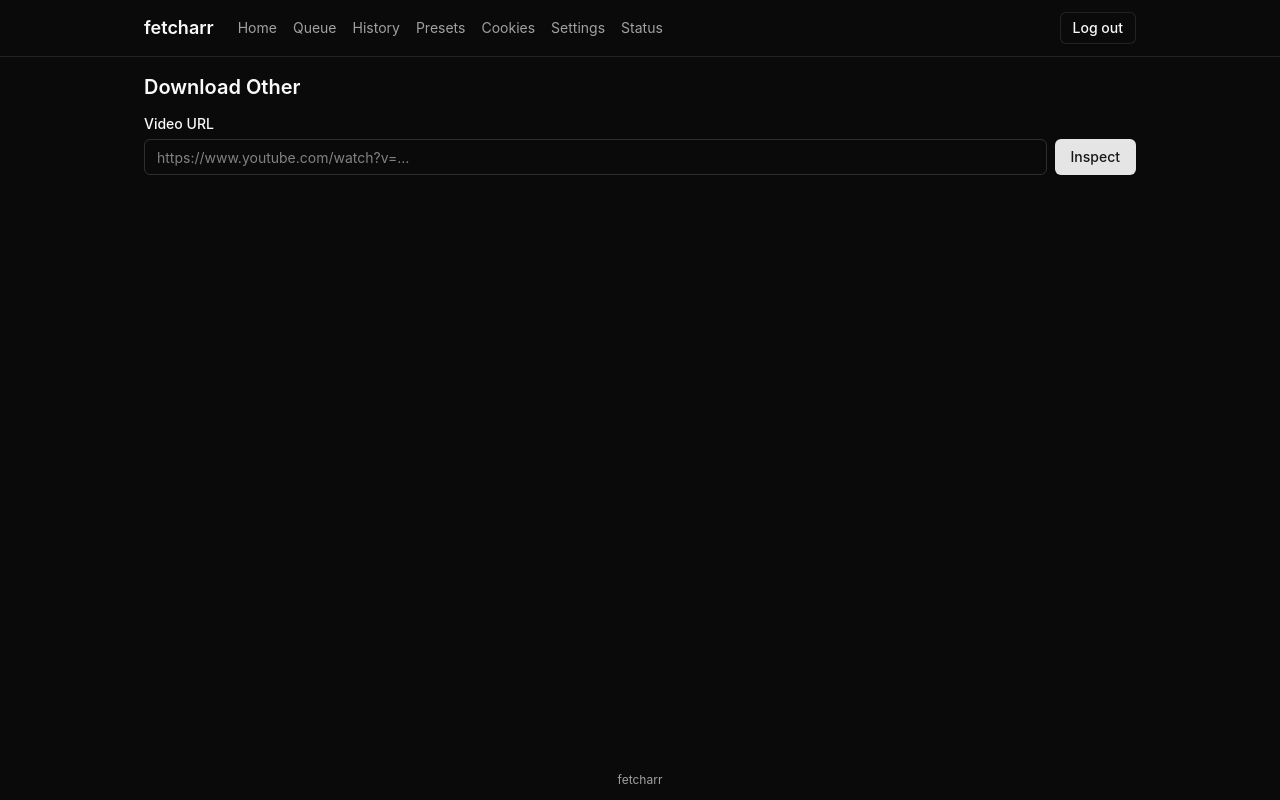
it: Other wizard › shows the error message
The width and height of the screenshot is (1280, 800).
Type "https://www.youtube.com/watch?v=aqz-KE-bpKQ" into the field labelled "Video URL".
click(595, 157); type("https://www.youtube.com/watch?v=aqz-KE-bpKQ")  # box [144,139,1046,175]
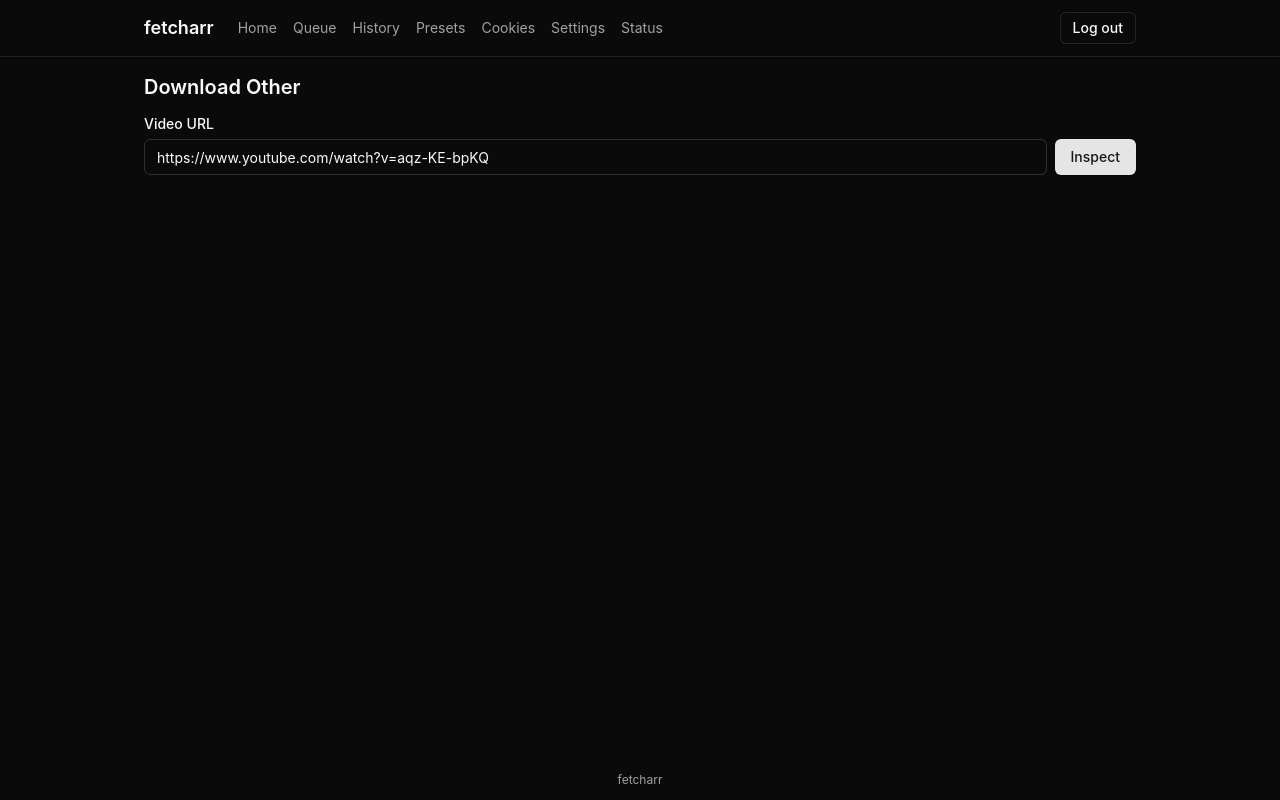
Click the button "Inspect".
click(1095, 157)  # box [1054,139,1136,175]
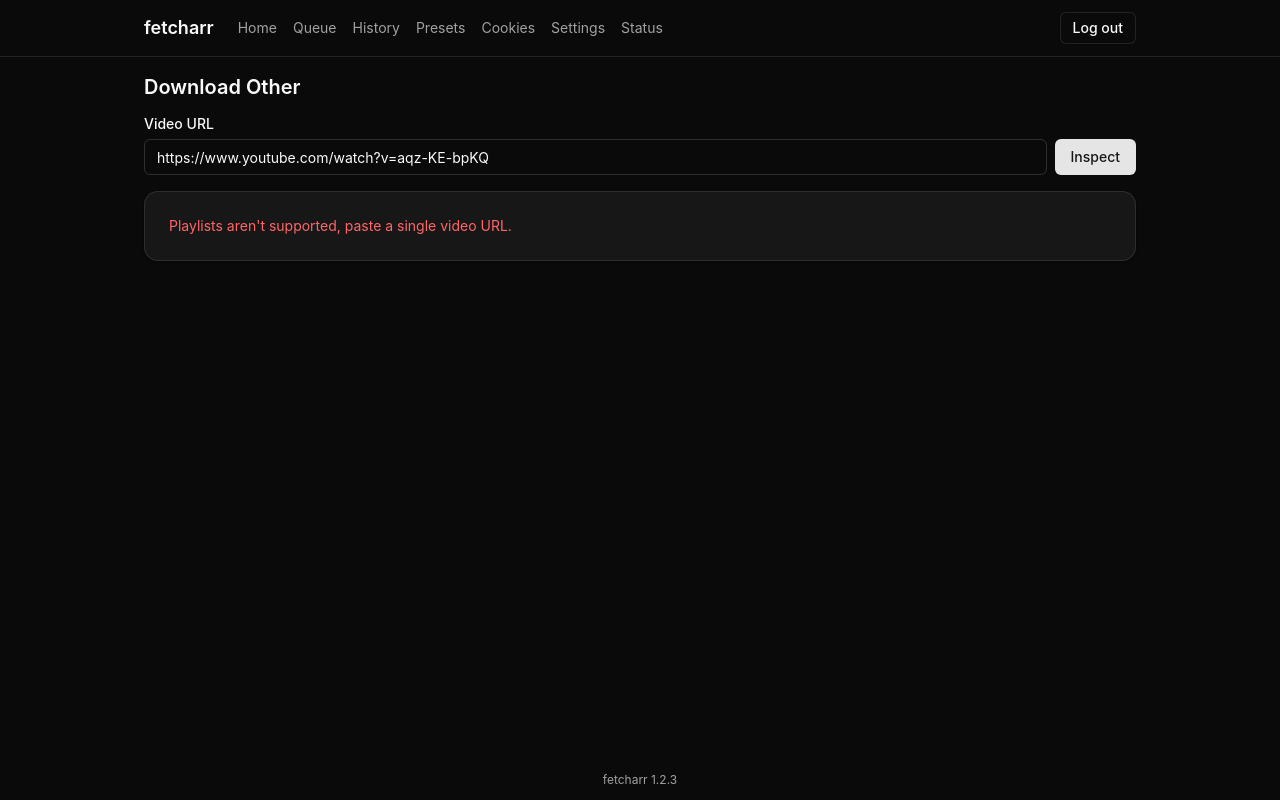
Now the message reads "Playlists aren't supported, paste a single video URL.", box [169,217,512,234]
